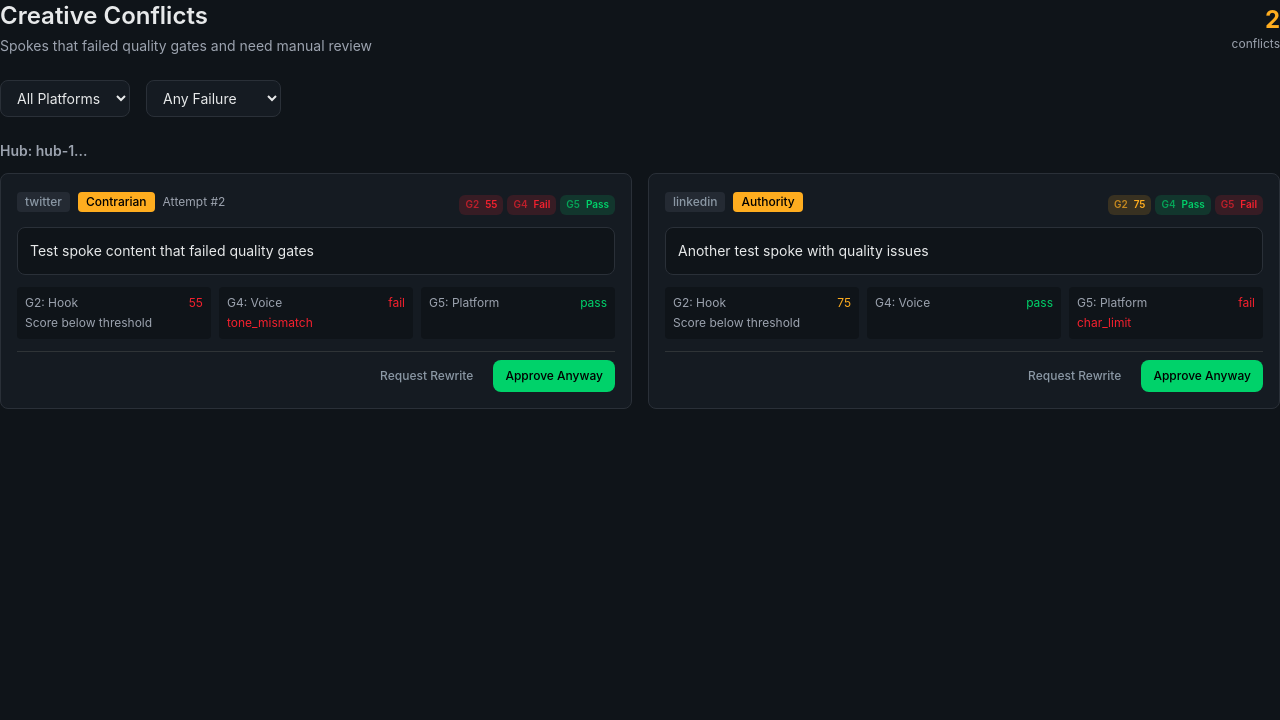
Scenario: CreativeConflictsPage › Feedback Modal › closes modal when Cancel is clicked
The width and height of the screenshot is (1280, 720).
Click the button "Request Rewrite" below "tone_mismatch": {"x": 427, "y": 376} [368,360,485,392]
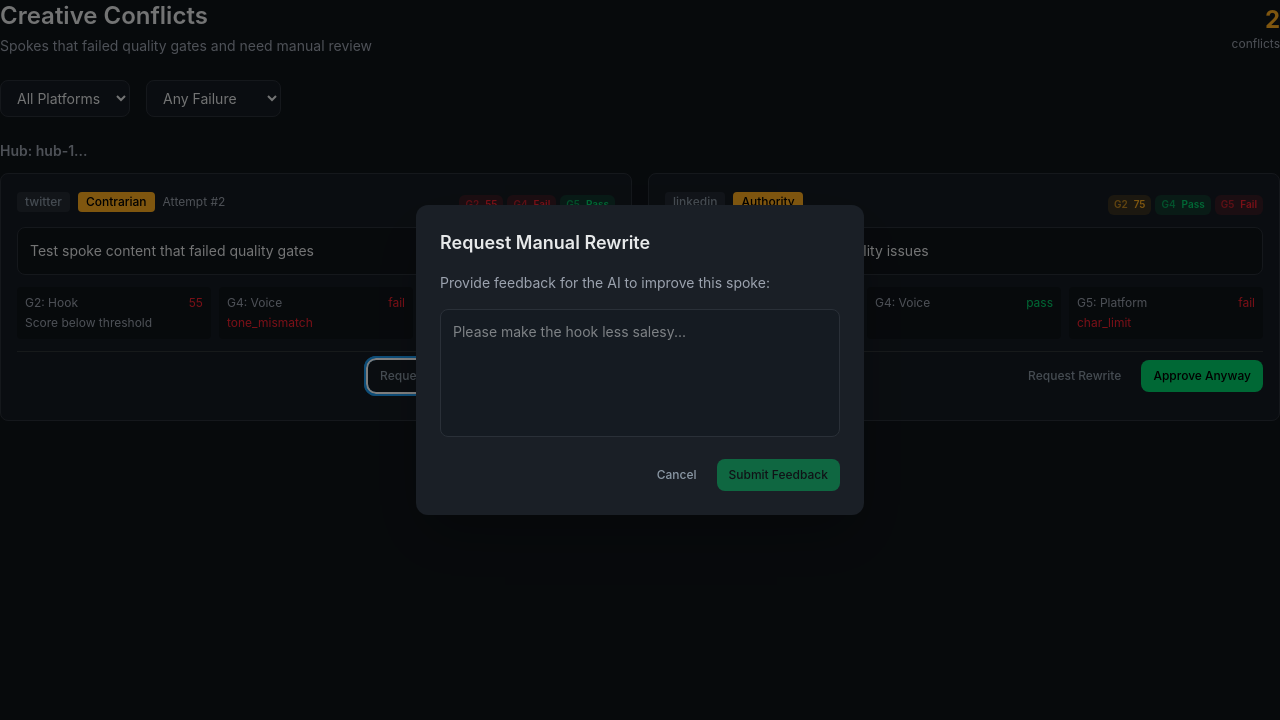
Click the button "Cancel": {"x": 677, "y": 475} [645,459,708,491]
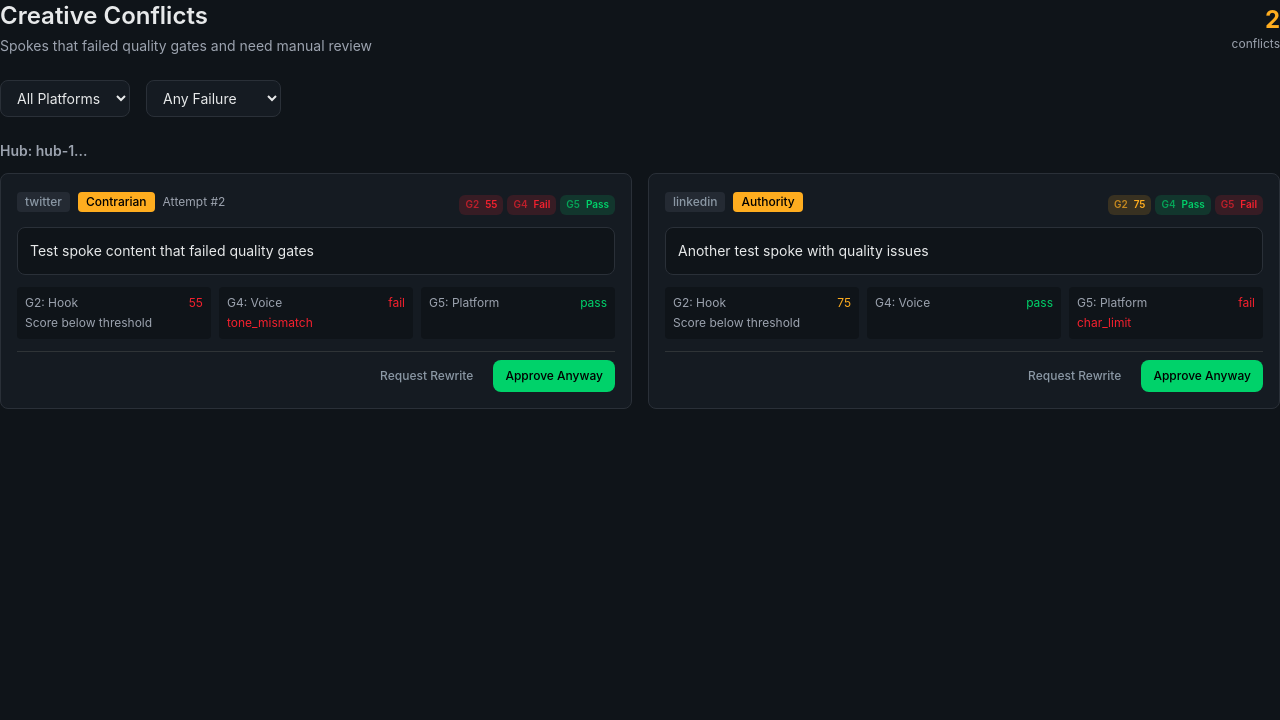
Check: the heading "Request Manual Rewrite" is gone
